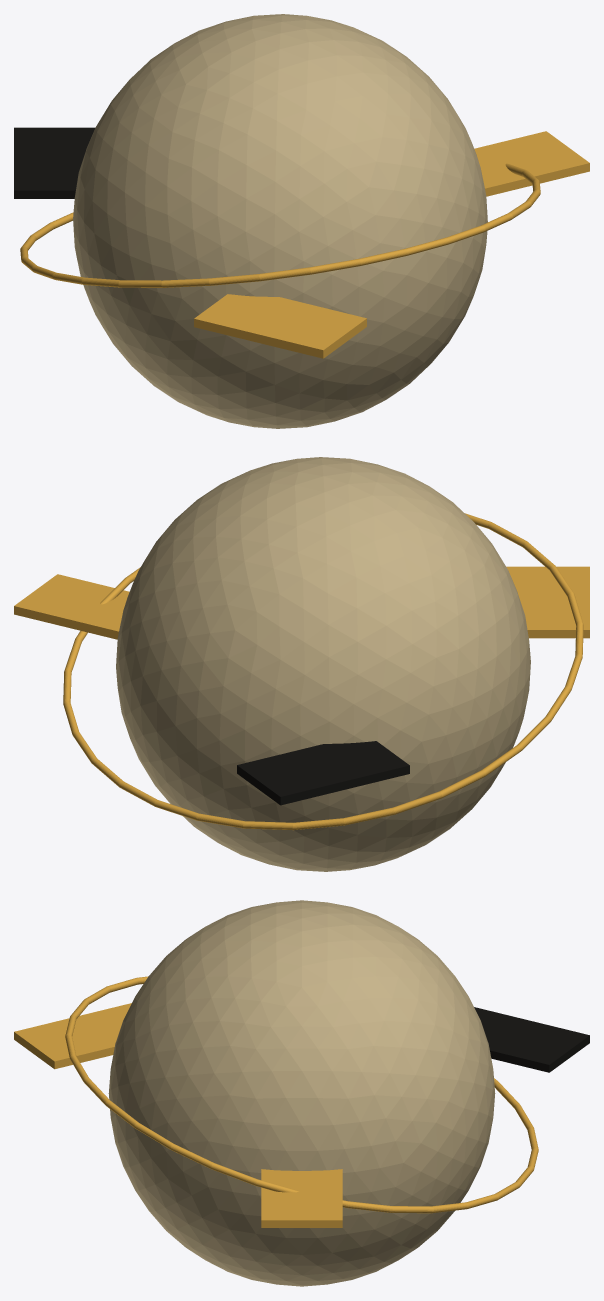
Rendered from scholarship-core.obj.
The picture shows the model from 3 angles, top to bottom: view 1: azimuth 30°, elevation 25°; view 2: azimuth 150°, elevation 25°; view 3: azimuth 270°, elevation 25°; orthographic projection. The views are drawn at different scales.
Visible parts, largest first — view 1: geometry_0, geometry_4, geometry_5, geometry_3, geometry_2; view 2: geometry_0, geometry_5, geometry_3, geometry_4, geometry_2; view 3: geometry_0, geometry_5, geometry_2, geometry_3, geometry_4.
Part boxes in pixels (x1,y1,x2,y2): geometry_0: (73, 14, 487, 428); geometry_4: (194, 294, 366, 358); geometry_5: (20, 163, 540, 287); geometry_3: (14, 127, 94, 198); geometry_2: (474, 131, 589, 196); geometry_0: (116, 457, 530, 871); geometry_5: (63, 513, 583, 830); geometry_3: (237, 741, 409, 805); geometry_4: (506, 566, 589, 638); geometry_2: (14, 574, 129, 639); geometry_0: (108, 900, 495, 1286); geometry_5: (65, 976, 538, 1213); geometry_2: (261, 1169, 342, 1227); geometry_3: (474, 1007, 589, 1072); geometry_4: (14, 1003, 131, 1069).
Size of the model in its own units: 2.87 by 2 by 2.98.
